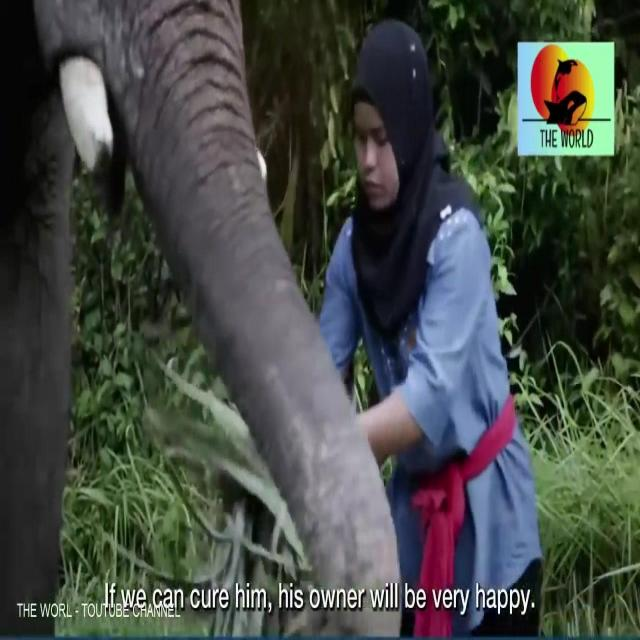Elephant: (0, 0, 340, 556)
